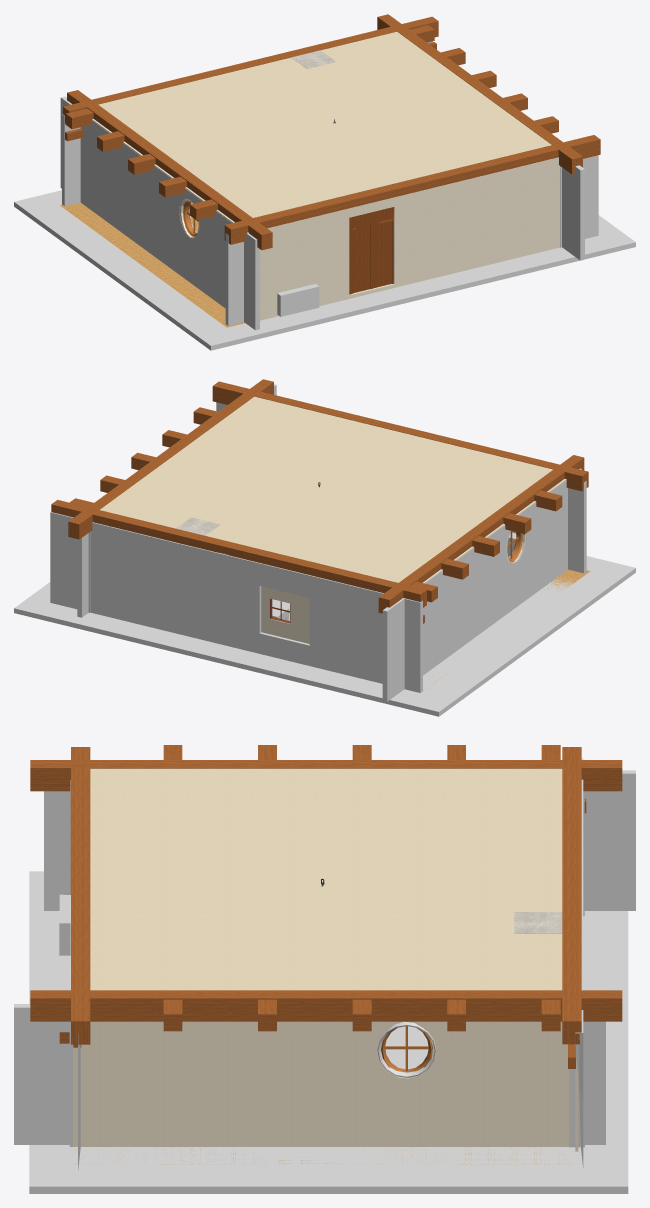
Rendered from house.glb.
3 renders of one model, top to bottom at view 1: azimuth 30°, elevation 25°; view 2: azimuth 150°, elevation 25°; view 3: azimuth 270°, elevation 25°, orthographic. The views are drawn at different scales.
Parts seen in each view (by area): view 1: HOUSE_ROOF, HOUSE_WALL_FRONT, COL_BOX_HOUSE_FLOOR, COL_BOX_HOUSE_WALL_LEFT, Flat_Beams_Front, TOP_BEAMS, INTERACT_EXIT_DOOR_01, Flat_Beams_Left, HOUSE_FLOOR, Flat_Beams_Back, COL_BOX_HOUSE_WALL_FRONT, Flat_Beams_Right (+5 smaller); view 2: HOUSE_ROOF, COL_BOX_HOUSE_WALL_BACK, COL_BOX_HOUSE_FLOOR, COL_BOX_HOUSE_WALL_LEFT, Flat_Beams_Back, TOP_BEAMS, Flat_Beams_Left, Flat_Beams_Front, Flat_Beams_Right, HOUSE_WALL_BACK, COL_BOX_HOUSE_WALL_FRONT, COL_BOX_HOUSE_WALL_RIGHT (+1 smaller); view 3: HOUSE_ROOF, HOUSE_WALL_RIGHT, COL_BOX_HOUSE_FLOOR, Flat_Beams_Right, COL_BOX_HOUSE_WALL_RIGHT, COL_BOX_HOUSE_WALL_LEFT, Flat_Beams_Left, Flat_Beams_Back, Flat_Beams_Front, TOP_BEAMS, COL_BOX_HOUSE_WALL_BACK, Cube.008 (+4 smaller).
Boxes of the visible parts, x1=… form: HOUSE_ROOF: x1=98, y1=32, x2=551, y2=217; HOUSE_WALL_FRONT: x1=260, y1=157, x2=559, y2=320; COL_BOX_HOUSE_FLOOR: x1=14, y1=190, x2=635, y2=350; COL_BOX_HOUSE_WALL_LEFT: x1=60, y1=96, x2=259, y2=330; Flat_Beams_Front: x1=224, y1=135, x2=600, y2=244; TOP_BEAMS: x1=65, y1=25, x2=558, y2=220; INTERACT_EXIT_DOOR_01: x1=349, y1=207, x2=394, y2=294; Flat_Beams_Left: x1=67, y1=90, x2=272, y2=250; HOUSE_FLOOR: x1=60, y1=202, x2=244, y2=327; Flat_Beams_Back: x1=63, y1=16, x2=438, y2=123; COL_BOX_HOUSE_WALL_FRONT: x1=225, y1=155, x2=598, y2=325; Flat_Beams_Right: x1=377, y1=14, x2=582, y2=174; HOUSE_ROOF: x1=100, y1=396, x2=552, y2=582; COL_BOX_HOUSE_WALL_BACK: x1=50, y1=512, x2=422, y2=692; COL_BOX_HOUSE_FLOOR: x1=14, y1=556, x2=635, y2=716; COL_BOX_HOUSE_WALL_LEFT: x1=382, y1=468, x2=581, y2=701; Flat_Beams_Back: x1=51, y1=500, x2=426, y2=607; TOP_BEAMS: x1=70, y1=407, x2=562, y2=602; Flat_Beams_Left: x1=378, y1=455, x2=584, y2=613; Flat_Beams_Front: x1=212, y1=381, x2=588, y2=491; Flat_Beams_Right: x1=68, y1=379, x2=273, y2=539; HOUSE_WALL_BACK: x1=261, y1=586, x2=309, y2=643; COL_BOX_HOUSE_WALL_FRONT: x1=216, y1=402, x2=586, y2=573; COL_BOX_HOUSE_WALL_RIGHT: x1=77, y1=384, x2=276, y2=617; HOUSE_ROOF: x1=90, y1=768, x2=562, y2=990; HOUSE_WALL_RIGHT: x1=73, y1=1021, x2=568, y2=1146; COL_BOX_HOUSE_FLOOR: x1=29, y1=871, x2=628, y2=1193; Flat_Beams_Right: x1=30, y1=990, x2=622, y2=1021; COL_BOX_HOUSE_WALL_RIGHT: x1=14, y1=1004, x2=605, y2=1144; COL_BOX_HOUSE_WALL_LEFT: x1=44, y1=770, x2=635, y2=910; Flat_Beams_Left: x1=30, y1=760, x2=622, y2=791; Flat_Beams_Back: x1=562, y1=747, x2=581, y2=1044; Flat_Beams_Front: x1=71, y1=747, x2=90, y2=1044; TOP_BEAMS: x1=163, y1=745, x2=560, y2=1031; COL_BOX_HOUSE_WALL_BACK: x1=575, y1=758, x2=583, y2=1167; Cube.008: x1=514, y1=912, x2=562, y2=933.
Size of the model in its own units: 23.32 by 6.13 by 19.43.
72 materials, 16 textured.
